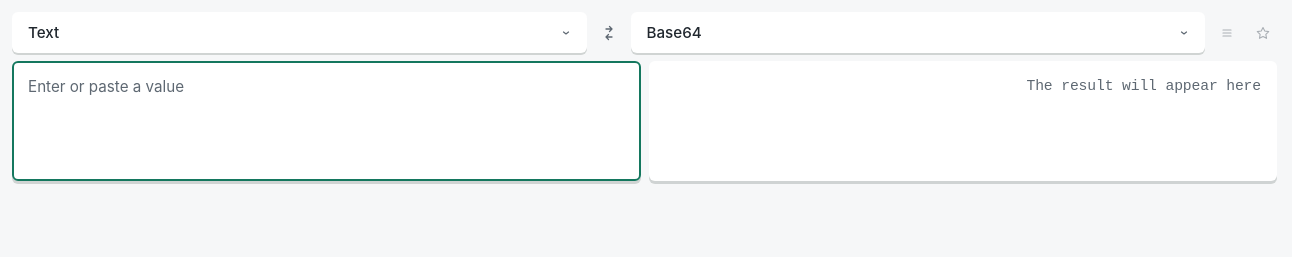
Test: unsupported pair cannot be unlocked and explains that no conversion exists in English
Type "private input" into the text box named "Input text".
click(326, 121); type("private input")  # box x1=12 y1=61 x2=640 y2=181
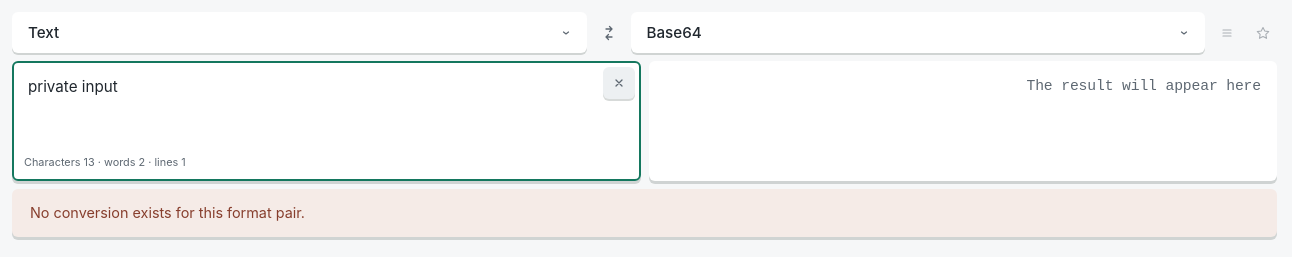
Expected: the message reads "No conversion exists for this format pair.", x1=30 y1=204 x2=305 y2=221
